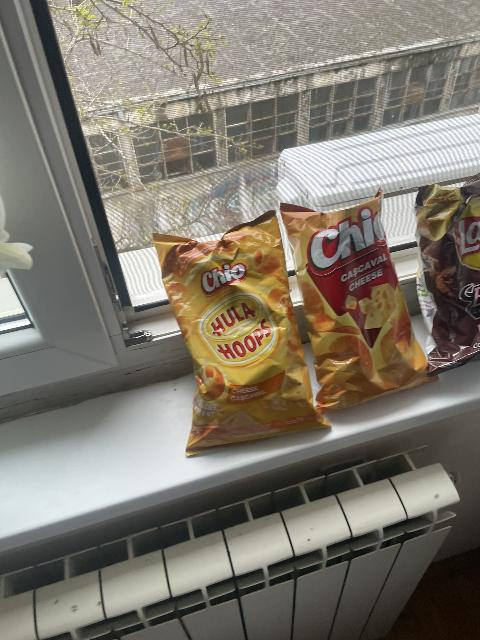Chio Cascaval 125g: (277, 185, 438, 414)
Chio Hula Hoops Cheese 70g: (156, 215, 327, 448)
Lays Beef Grilled Ribs 125g: (409, 173, 480, 375)
